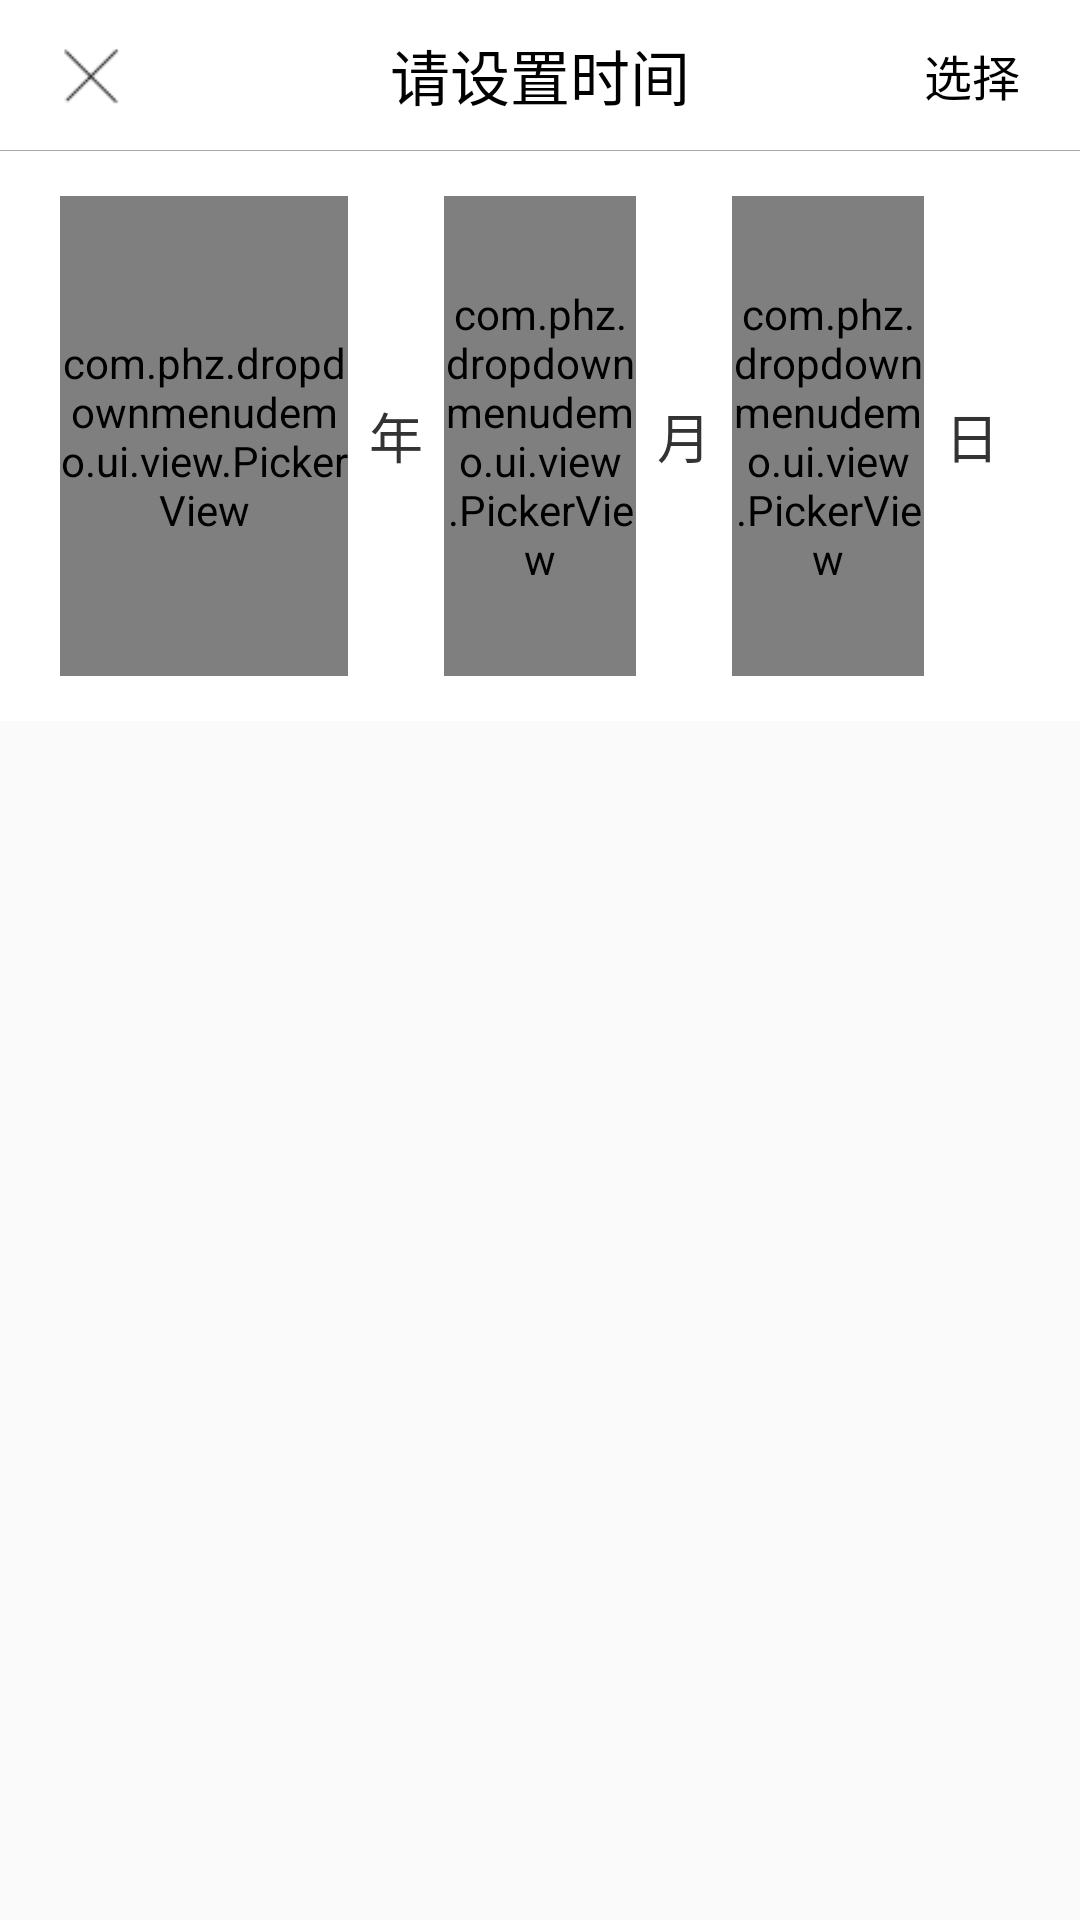

Icon bounding boxes for this 1080 × 1920 phone screenshot, format detection(x1, y1, x2, y2):
pic cancle: detection(64, 49, 118, 103)
